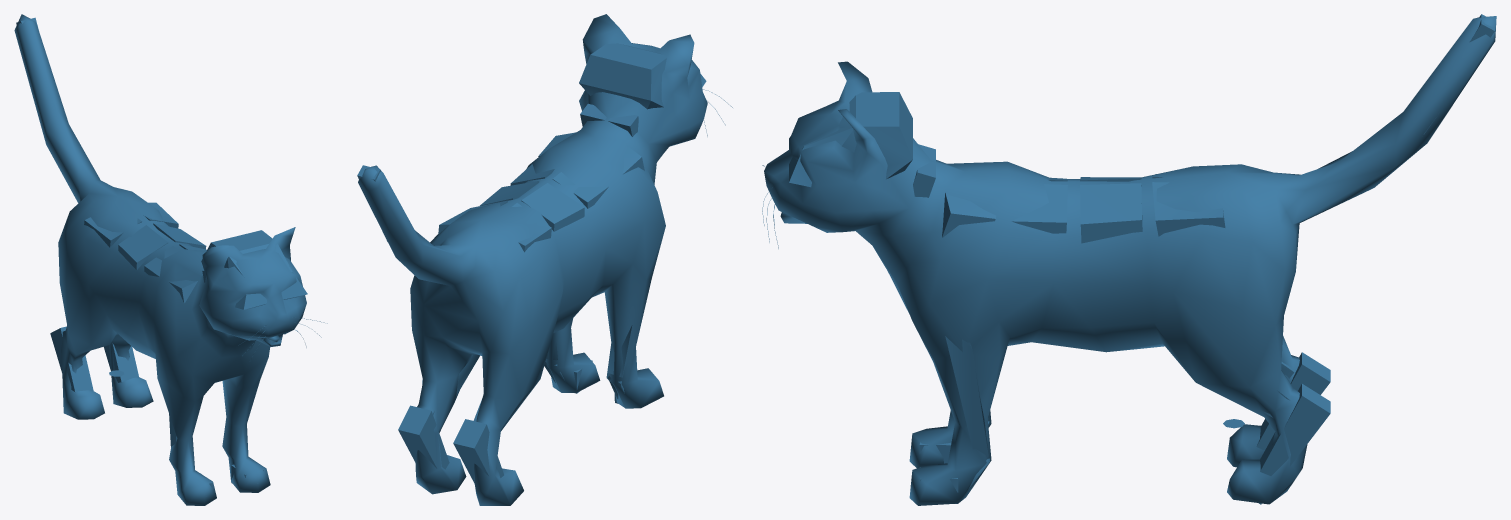
File: enemy2.obj
3 renders of one model, left to right at view 1: azimuth 30°, elevation 25°; view 2: azimuth 150°, elevation 25°; view 3: azimuth 270°, elevation 25°, orthographic. The views are drawn at different scales.
Parts seen in each view (by area): view 1: (null); view 2: (null); view 3: (null).
Boxes of the visible parts, box(x1,y1,x2,y2) form: (null): box(14, 14, 327, 505); (null): box(357, 14, 732, 505); (null): box(762, 14, 1496, 505).
Bounding box in the file's own units: 0.0547 × 0.1747 × 0.2482.
